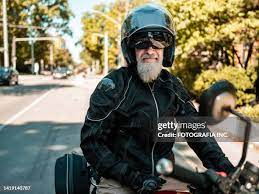helmets: (120, 4, 176, 72)
